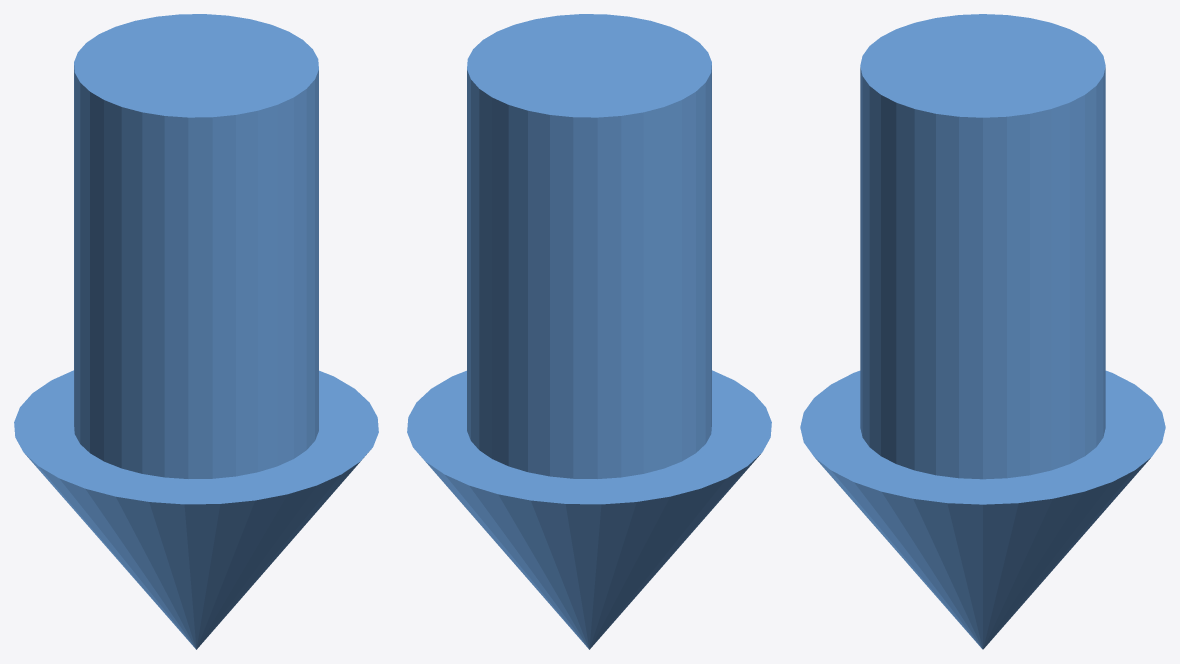
File: arrow.fbx
3 views of the same model, side by side, from view 1: azimuth 30°, elevation 25°; view 2: azimuth 150°, elevation 25°; view 3: azimuth 270°, elevation 25° (orthographic).
Visible parts, largest first — view 1: Cylinder; view 2: Cylinder; view 3: Cylinder.
Boxes of the visible parts, x1,y1,x2,y2 form: Cylinder: (14, 14, 378, 649); Cylinder: (407, 14, 771, 649); Cylinder: (800, 14, 1165, 649).
Size of the model in its own units: 298 by 525 by 298.
